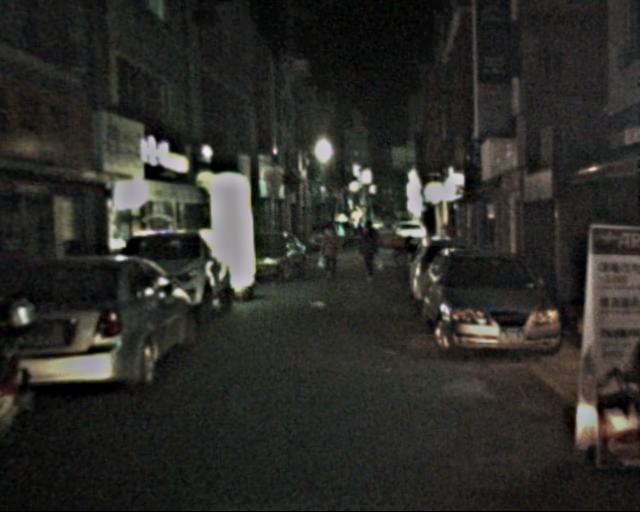person: (355, 220, 383, 289), (317, 223, 342, 283)
